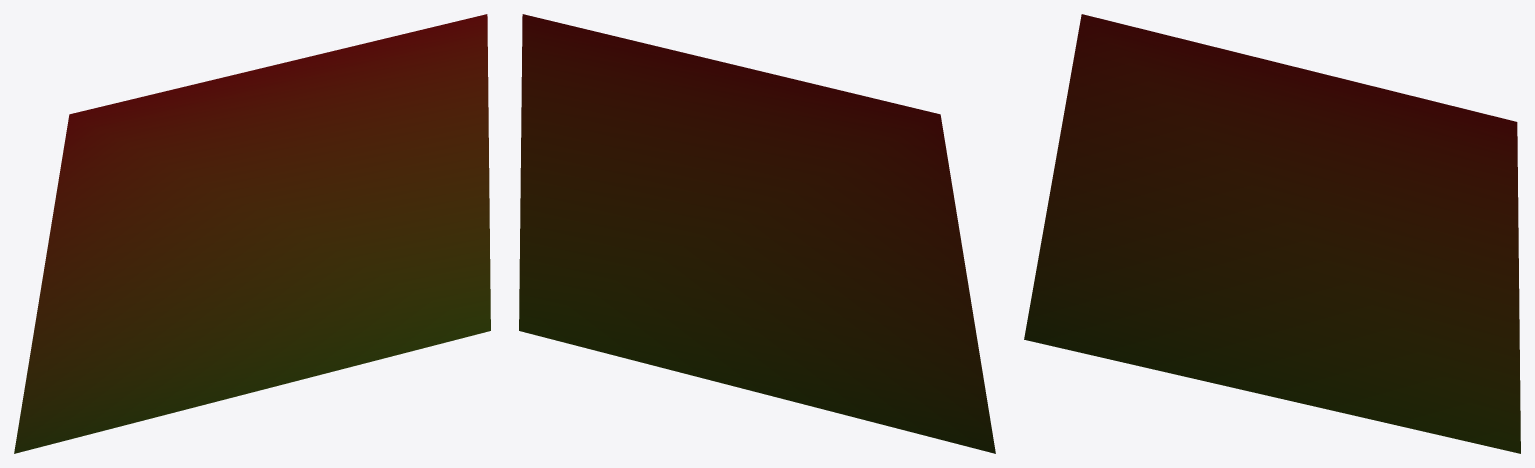
Rendered from Var7_LOD3.fbx.
The picture shows the model from 3 angles, left to right: view 1: azimuth 30°, elevation 25°; view 2: azimuth 150°, elevation 25°; view 3: azimuth 330°, elevation 25°; orthographic projection. The views are drawn at different scales.
Parts seen in each view (by area): view 1: _ffbf_Var7_LOD3; view 2: _ffbf_Var7_LOD3; view 3: _ffbf_Var7_LOD3.
Part boxes in pixels (bbox=[...]): _ffbf_Var7_LOD3: bbox=[14, 14, 490, 453]; _ffbf_Var7_LOD3: bbox=[519, 14, 995, 453]; _ffbf_Var7_LOD3: bbox=[1024, 14, 1520, 453].
Bounding box in the file's own units: 45.58 × 29.78 × 2.48e-05.
